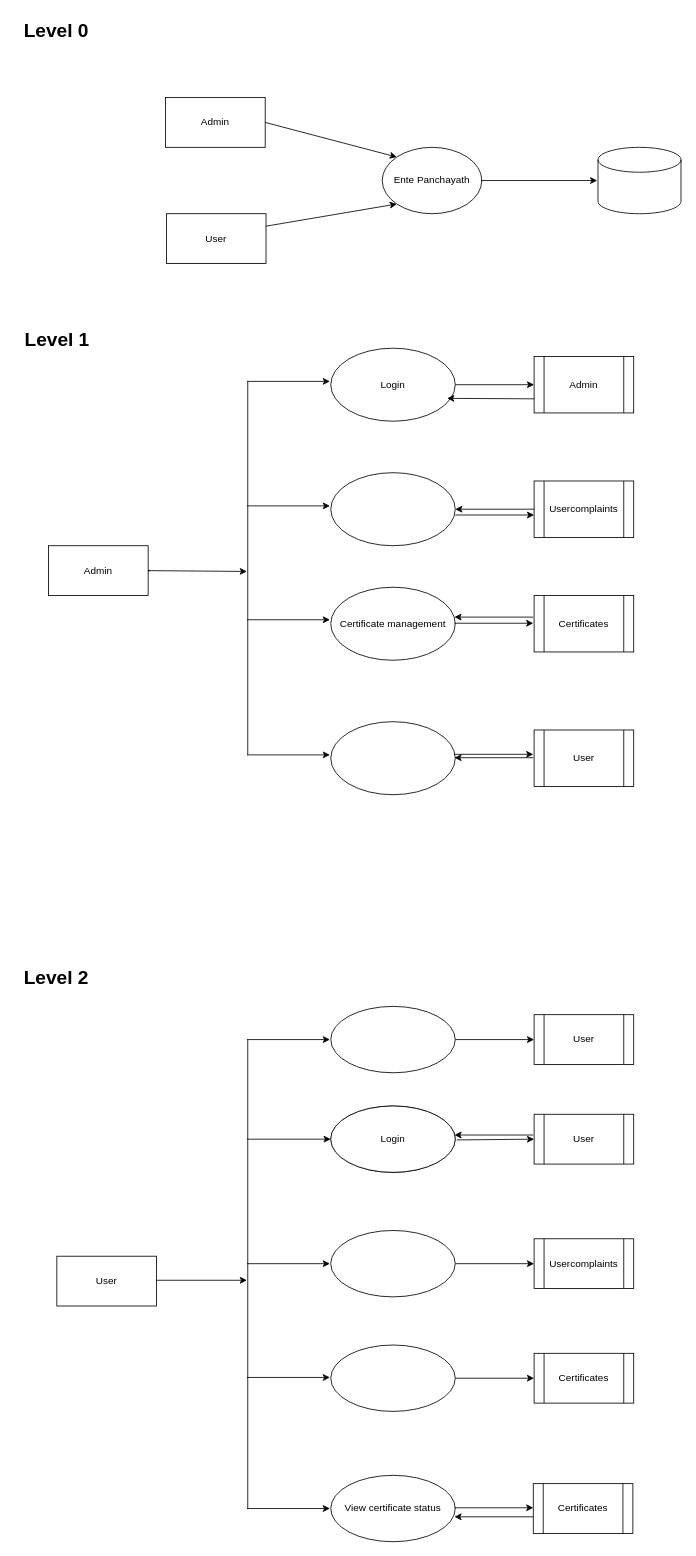
The diagram is 696 pixels wide and 1556 high, and some of its shapes have lost their labels. Each missing label, with the centre of its shape:
"Apply certificate" goes at point (392, 1377).
"Complaint management" goes at point (392, 509).
"Database" goes at point (639, 180).
"Post complaints" goes at point (392, 1263).
"Register" goes at point (392, 1039).
"User management" goes at point (392, 758).
